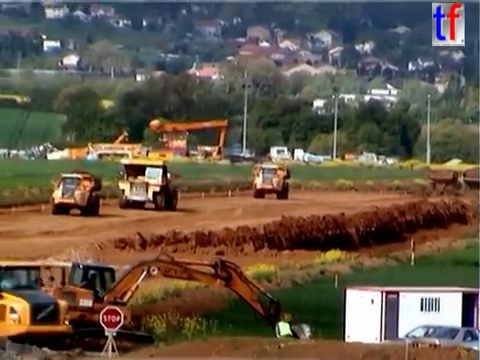crane: (147, 115, 229, 162)
excavator: (37, 251, 314, 360)
truck: (1, 258, 75, 359), (116, 156, 179, 211), (48, 170, 103, 216), (249, 162, 291, 200), (425, 166, 459, 195), (462, 168, 480, 196)
worker: (272, 314, 295, 355)
